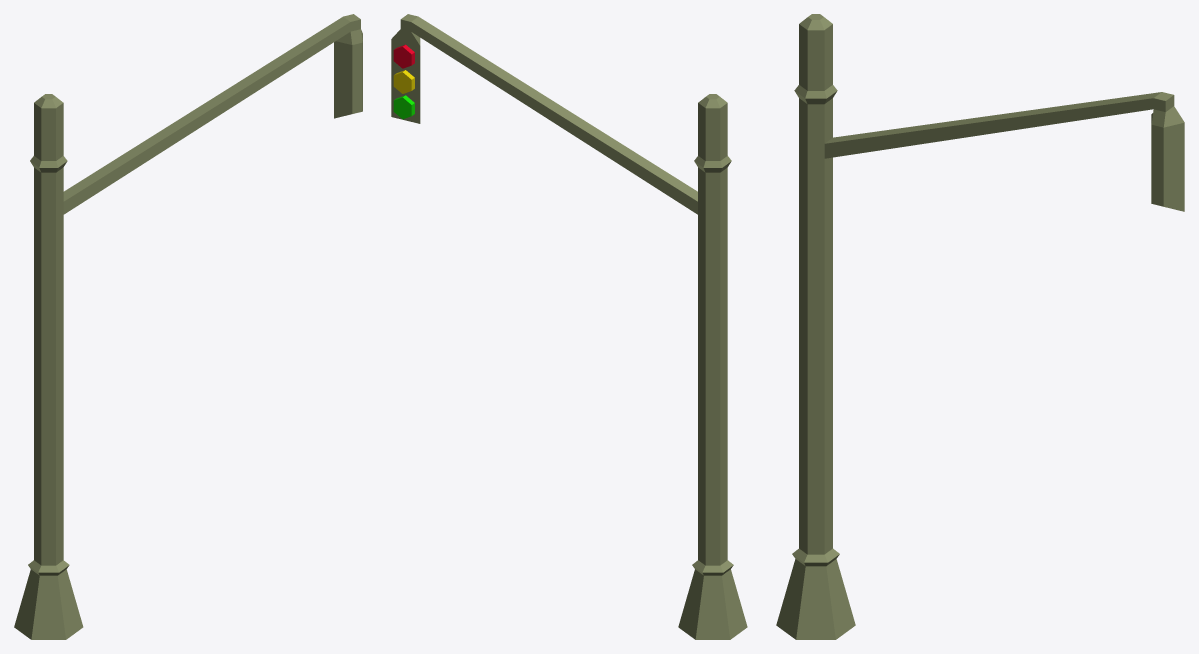
File: traffic_light.glb
3 views of the same model, side by side, from view 1: azimuth 30°, elevation 25°; view 2: azimuth 150°, elevation 25°; view 3: azimuth 330°, elevation 25° (orthographic). The views are drawn at different scales.
Visible parts, largest first — view 1: traffic_light; view 2: traffic_light; view 3: traffic_light.
Part boxes in pixels (x1,y1,x2,y2): traffic_light: (14, 14, 362, 639); traffic_light: (391, 14, 747, 639); traffic_light: (776, 14, 1184, 639).
Bounding box in the file's own units: 3.69 × 5.49 × 0.6455.
